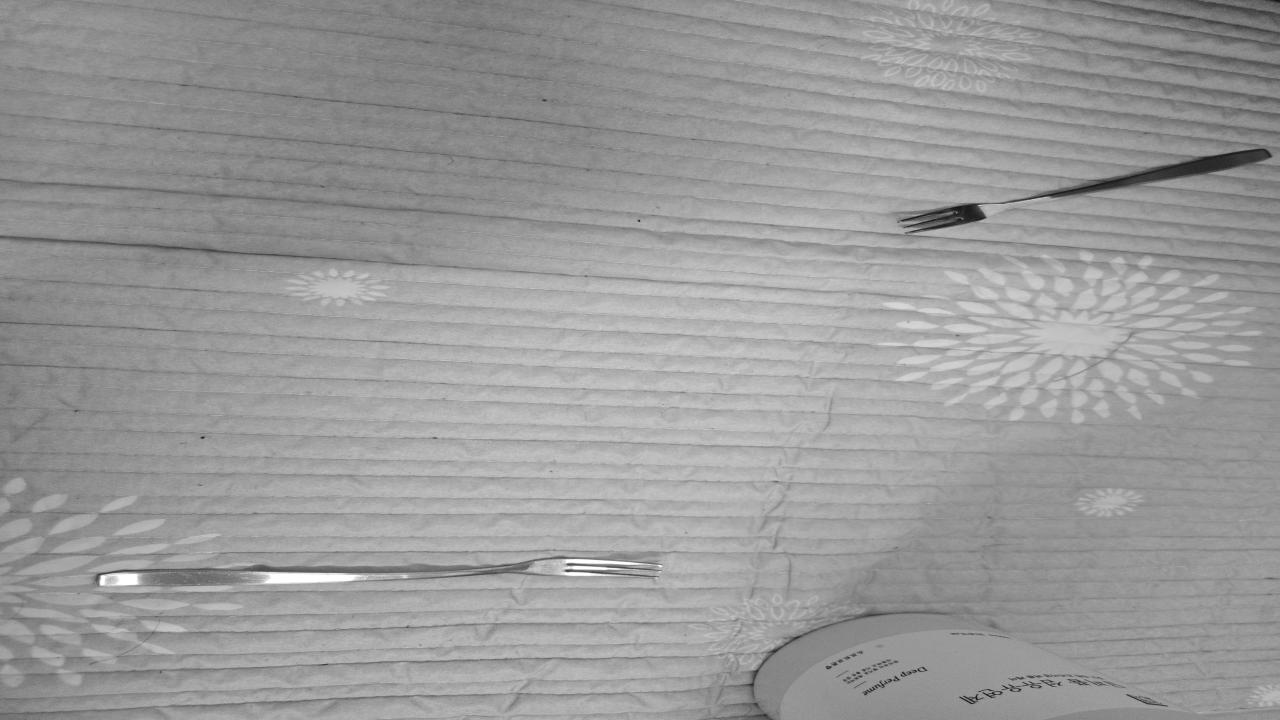fork: (893, 150, 1264, 235), (102, 557, 659, 588)
